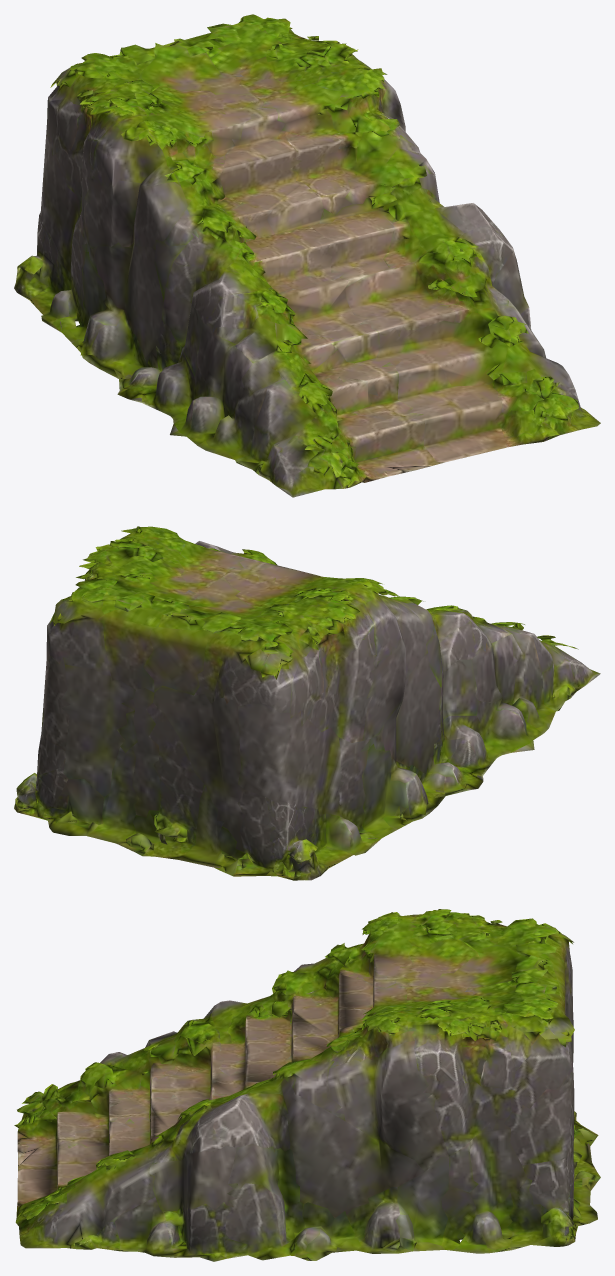
Rendered from slope_ascent.glb.
The picture shows the model from 3 angles, top to bottom: view 1: azimuth 30°, elevation 25°; view 2: azimuth 150°, elevation 25°; view 3: azimuth 270°, elevation 25°; orthographic projection. The views are drawn at different scales.
Bounding box in the file's own units: 1.29 × 0.7701 × 1.9.
1 material, 1 textured.
